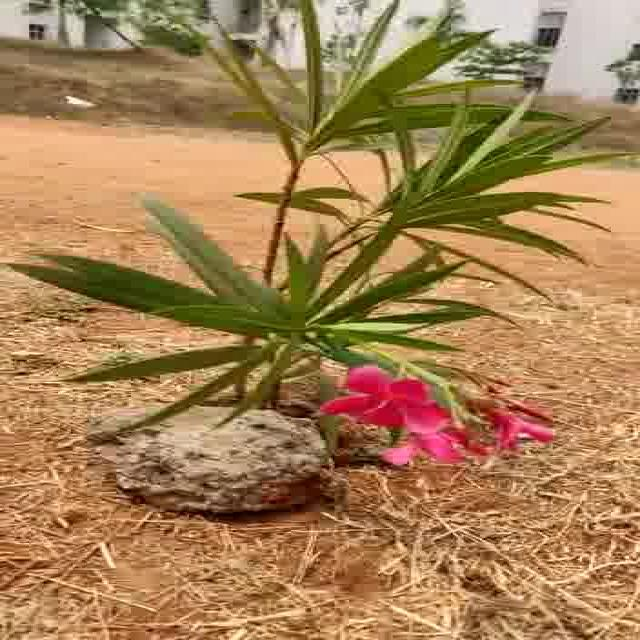Oleander: (84, 0, 546, 430)
